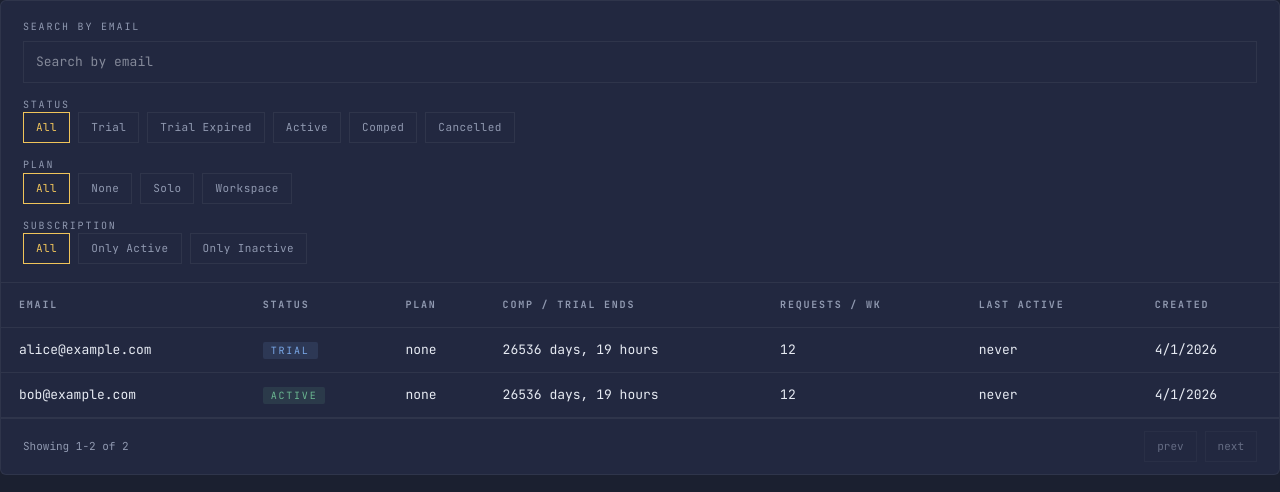
Admin Users list view › applies the status filter chip client-side
Expected: the text "alice@example.com" is shown, [19,340,152,360]
Expected: the text "bob@example.com" is shown, [19,385,136,405]
Click the radio button with aria-label "status: active".
click(307, 128)  # box [273,112,341,143]
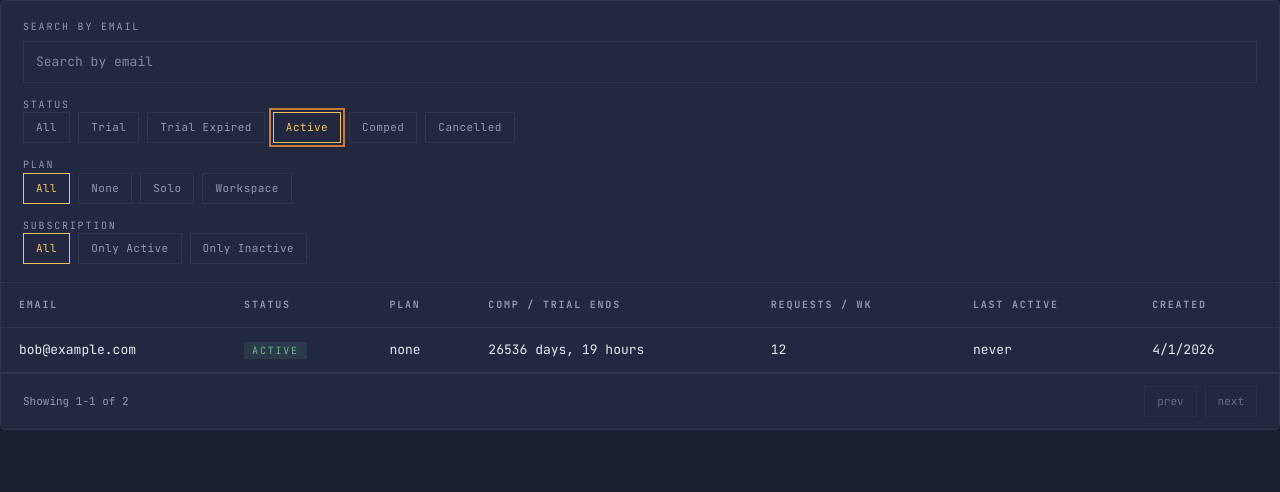
Expected: the text "bob@example.com" is shown, [19,340,136,360]
Result: the button "alice@example.com" is gone
